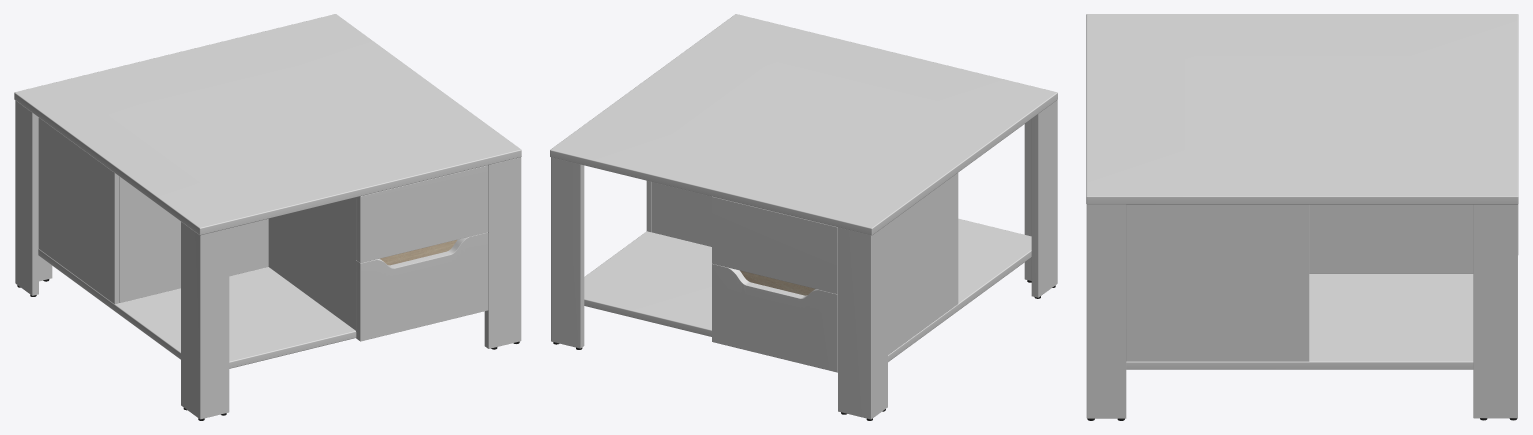
Rendered from cabinet_B07S74J1JT.glb.
The picture shows the model from 3 angles, left to right: view 1: azimuth 30°, elevation 25°; view 2: azimuth 150°, elevation 25°; view 3: azimuth 270°, elevation 25°; orthographic projection. The views are drawn at different scales.
Parts seen in each view (by area): view 1: RootNode; view 2: RootNode; view 3: RootNode.
Boxes of the visible parts, bbox=[...] form: RootNode: bbox=[14, 14, 521, 420]; RootNode: bbox=[550, 14, 1057, 420]; RootNode: bbox=[1086, 14, 1518, 420].
Size of the model in its own units: 0.8 by 0.46 by 0.8.
1 material, 1 textured.
